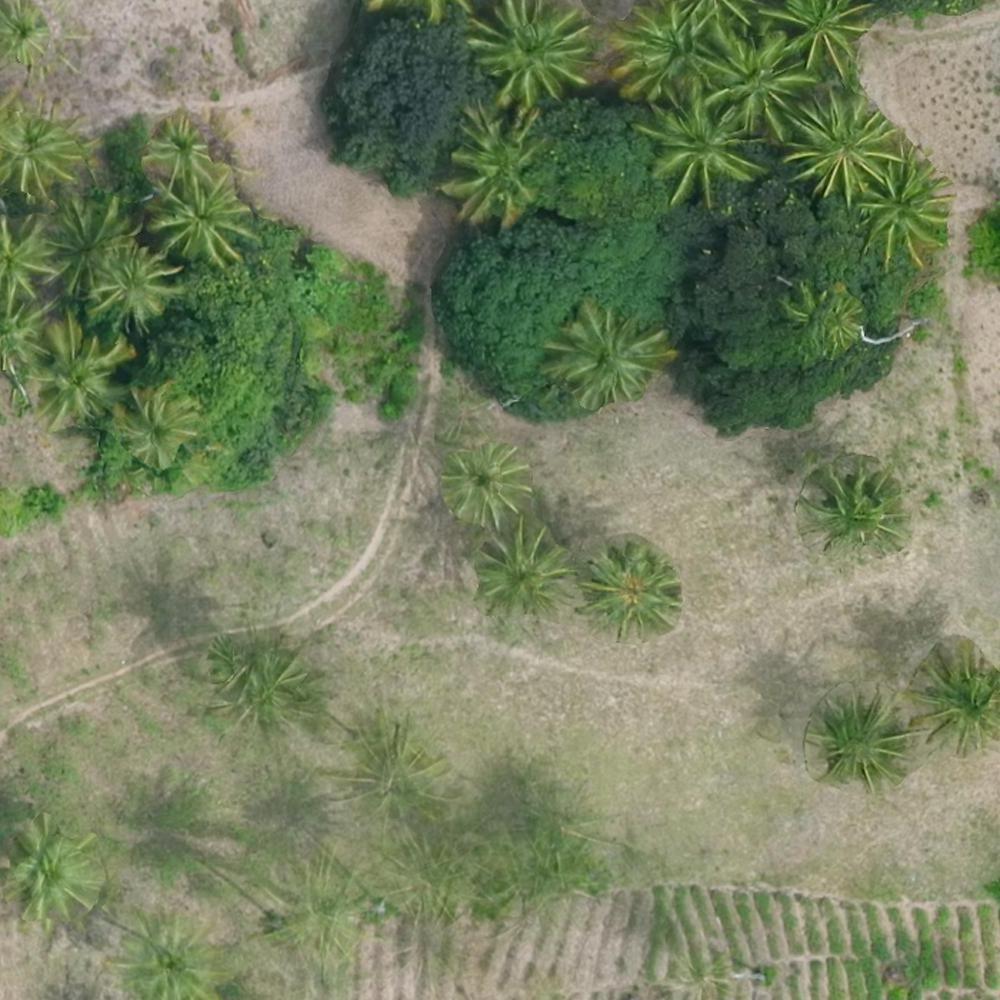Palm: (640, 99, 771, 212), (463, 1, 593, 106), (546, 300, 665, 410), (858, 145, 953, 276), (447, 100, 548, 223), (787, 83, 893, 198), (704, 26, 809, 131), (27, 314, 127, 423), (613, 1, 717, 98), (142, 172, 248, 267), (3, 817, 98, 922), (809, 694, 912, 788), (41, 194, 133, 298), (803, 462, 909, 552), (584, 541, 681, 639), (84, 239, 181, 335), (116, 914, 224, 1000), (1, 98, 86, 205), (918, 646, 1000, 756), (476, 519, 569, 614), (110, 384, 204, 468), (441, 441, 532, 526), (144, 111, 221, 184), (1, 3, 54, 68)
